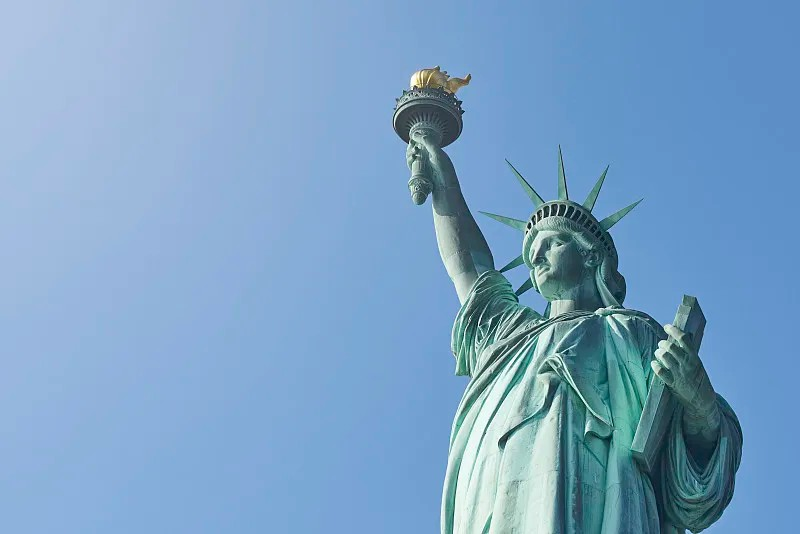SL: (392, 66, 745, 534)
